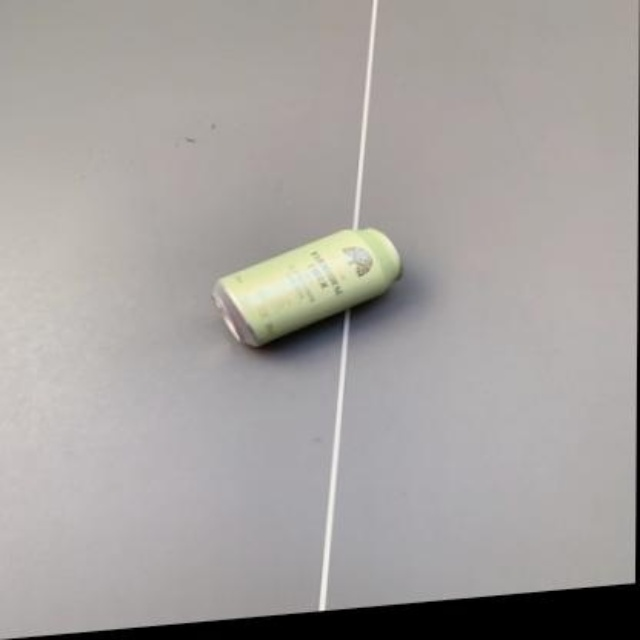trash: (212, 228, 400, 345)
